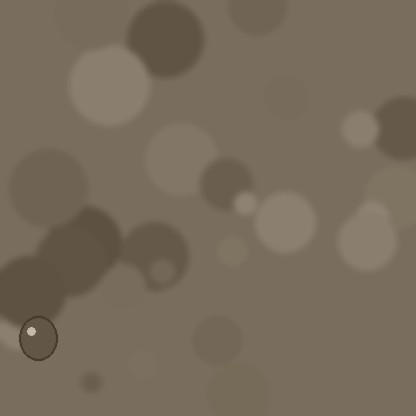gota: (19, 318, 57, 364)
